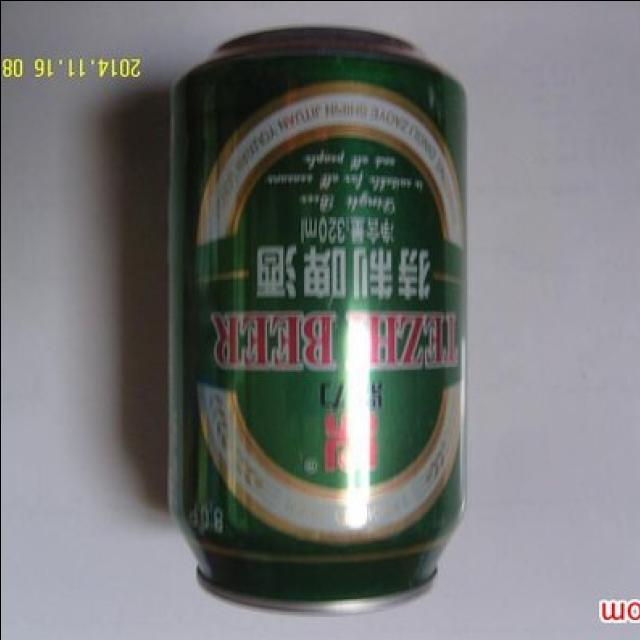-Recyclables - can-: (166, 26, 473, 611)
